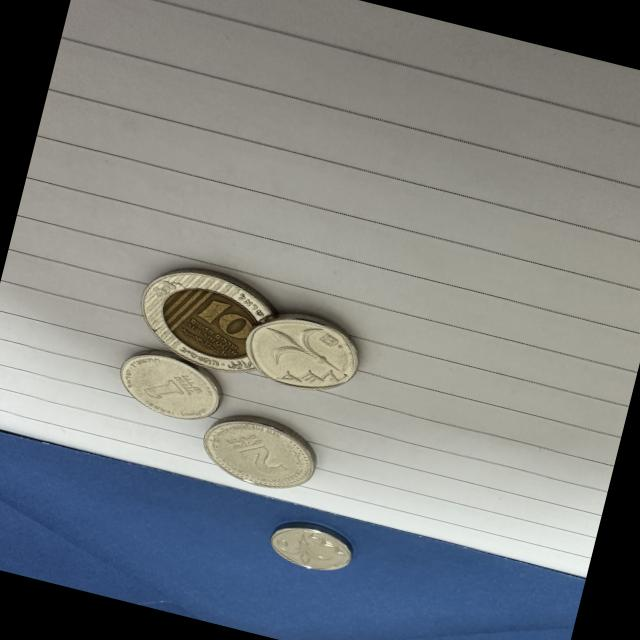1-shekel: (234, 302, 366, 401), (106, 344, 227, 429), (258, 512, 359, 578)
10-shekel: (126, 255, 284, 382)
2-shekel: (192, 405, 326, 500)
